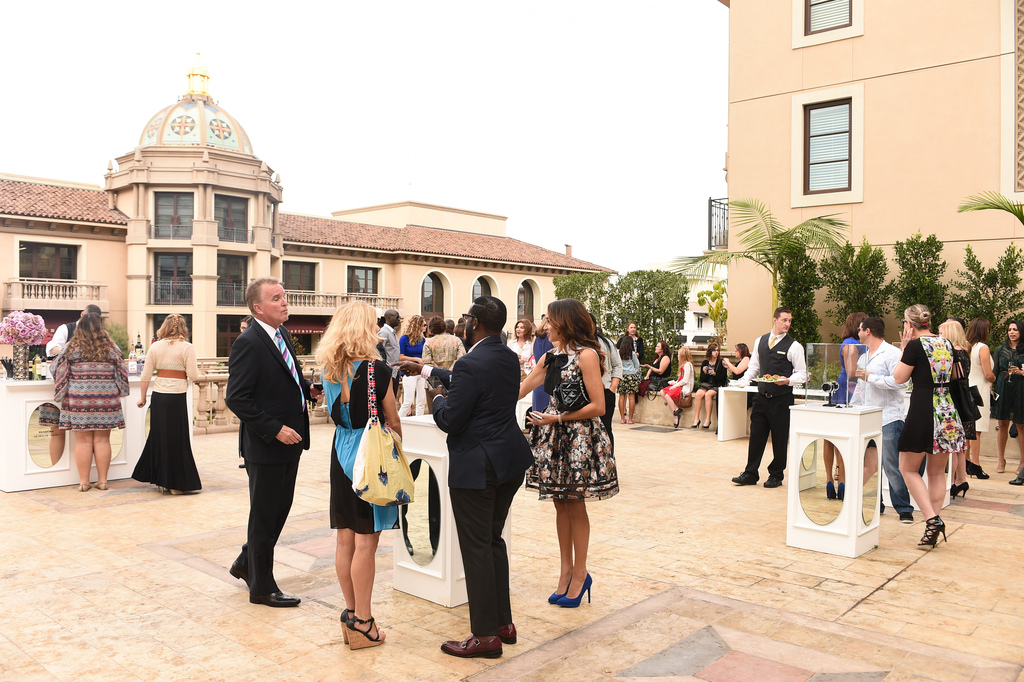Footwear: (324, 594, 387, 656), (441, 635, 504, 660), (247, 585, 297, 609), (557, 576, 592, 610), (545, 569, 575, 605), (915, 512, 945, 548), (230, 553, 253, 587), (493, 623, 520, 644), (343, 608, 357, 645), (966, 462, 987, 483), (948, 483, 968, 501), (1008, 468, 1023, 485), (758, 475, 778, 487), (730, 473, 752, 482), (902, 507, 915, 521), (835, 483, 844, 503), (827, 478, 836, 497), (692, 414, 700, 426), (673, 404, 680, 417), (76, 484, 88, 491), (92, 484, 106, 489), (705, 420, 710, 432), (672, 420, 676, 428)
